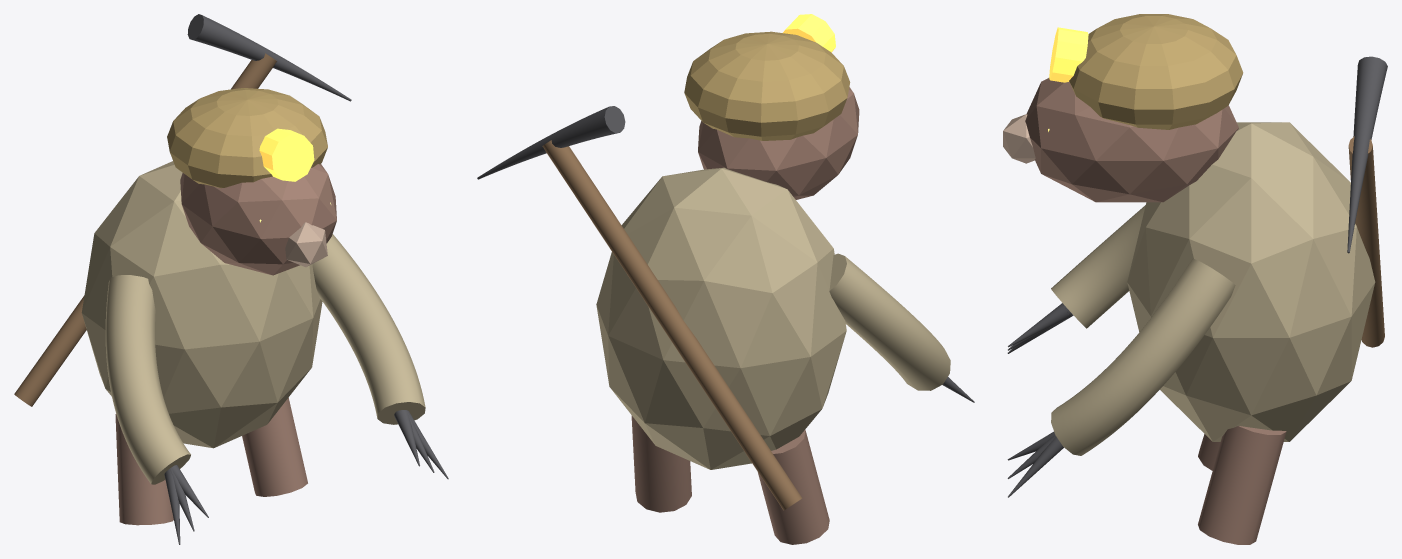
File: tunneler.glb
3 views of the same model, side by side, from view 1: azimuth 30°, elevation 25°; view 2: azimuth 150°, elevation 25°; view 3: azimuth 270°, elevation 25° (orthographic). The views are drawn at different scales.
Parts seen in each view (by area): view 1: tunneler; view 2: tunneler; view 3: tunneler.
Boxes of the visible parts, <box> form: tunneler: <box>14,14,448,544</box>; tunneler: <box>477,14,974,544</box>; tunneler: <box>1003,14,1387,544</box>.
Size of the model in its own units: 0.6975 by 0.8676 by 0.633.
